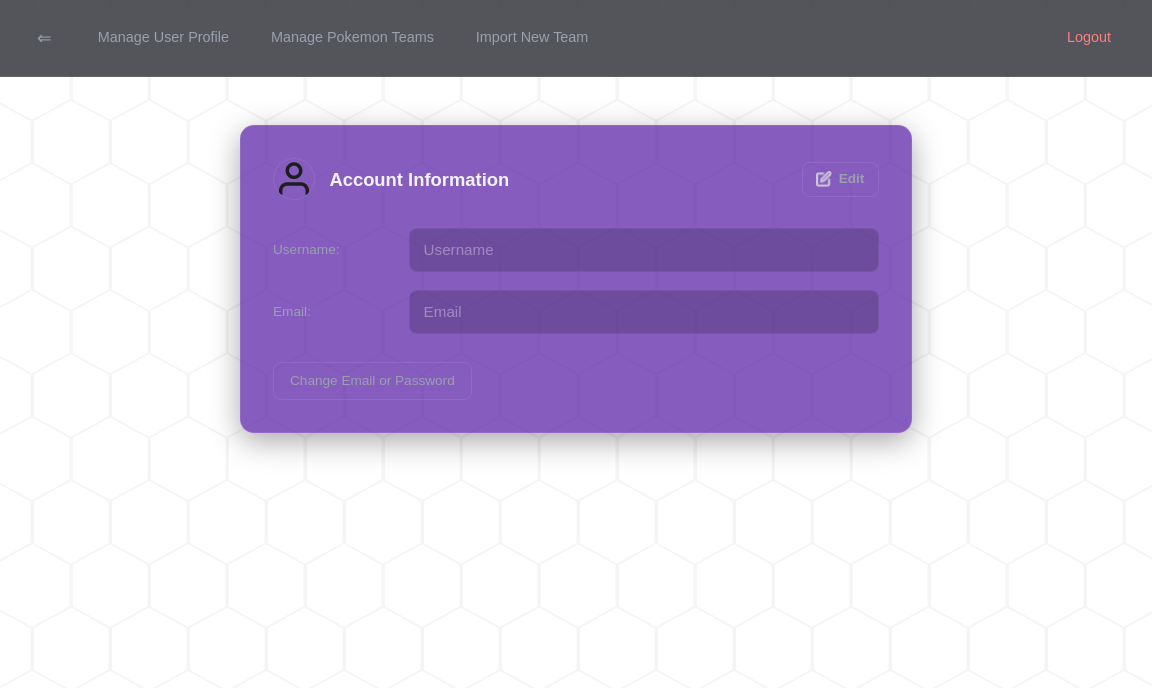
Test case: UserSettings - profile tab › shows and hides the email/password form with the toggle button
This screenshot has width=1152, height=688.
Check: the field labelled "New Email:" is not shown
Click the button "Change Email or Password" at (372, 381), box top-left (273, 362), bottom-right (472, 400)
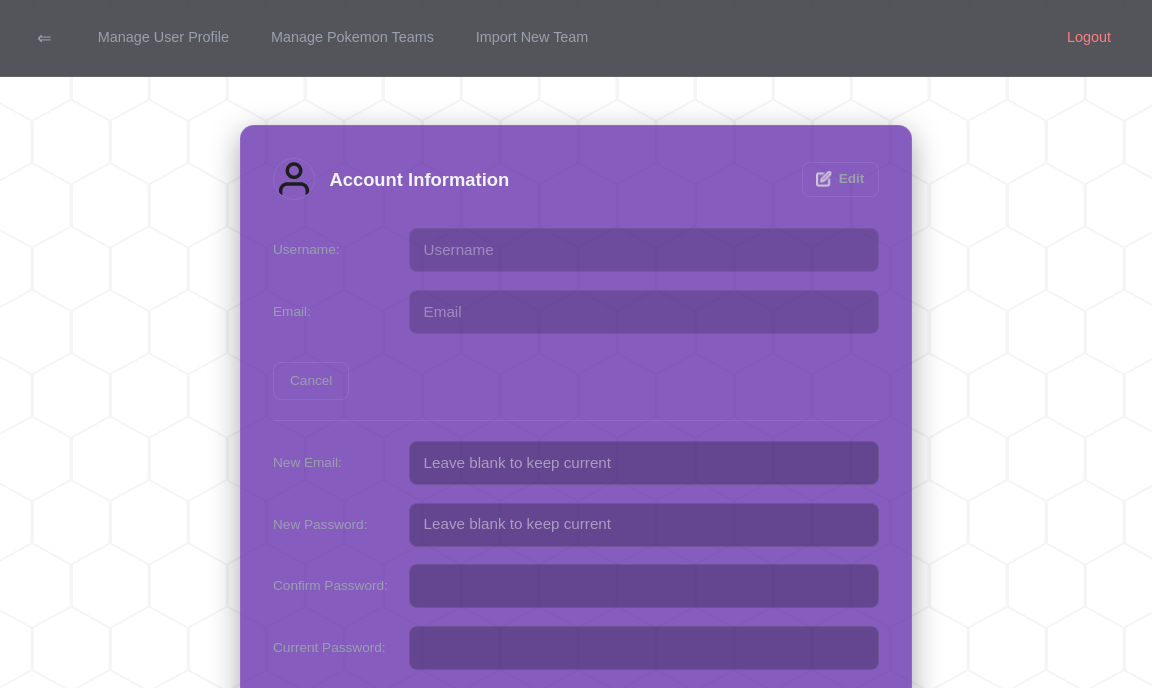
Check: the field labelled "New Email:" is shown, box top-left (409, 441), bottom-right (879, 485)
Check: the password field labelled "New Password:" is shown, box top-left (409, 503), bottom-right (879, 547)
Check: the password field labelled "Confirm Password:" is shown, box top-left (409, 564), bottom-right (879, 608)
Click the button "Cancel" at (311, 381), box top-left (273, 362), bottom-right (349, 400)
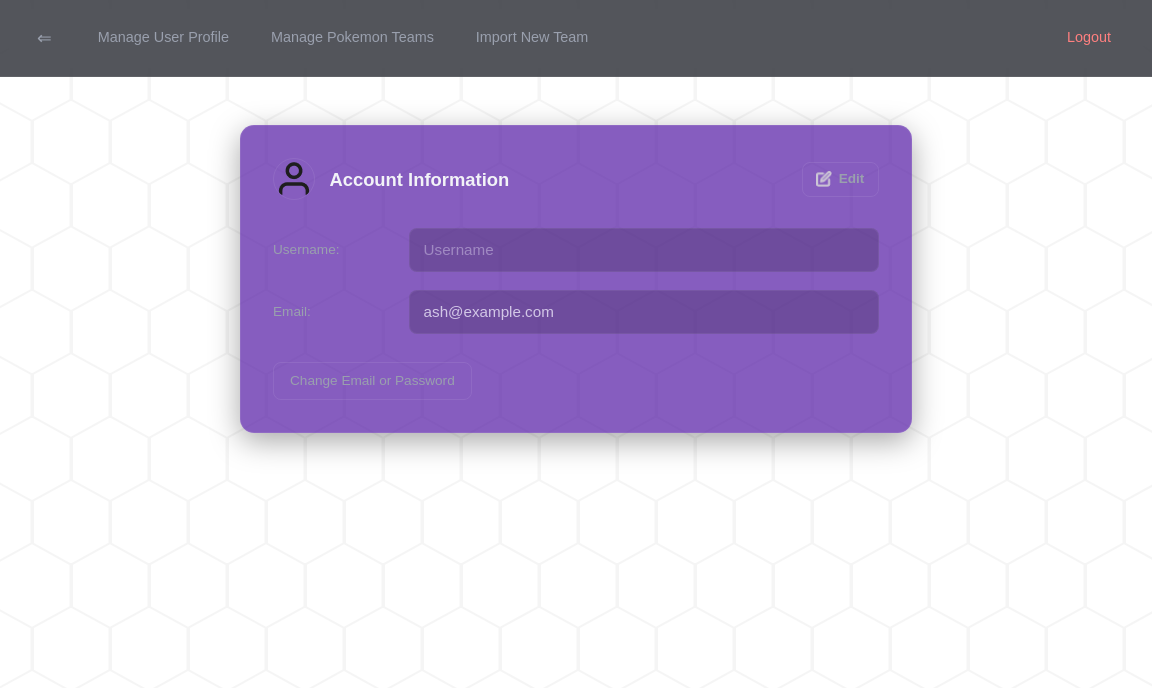
Check: the label labelled "New Email:" is gone
